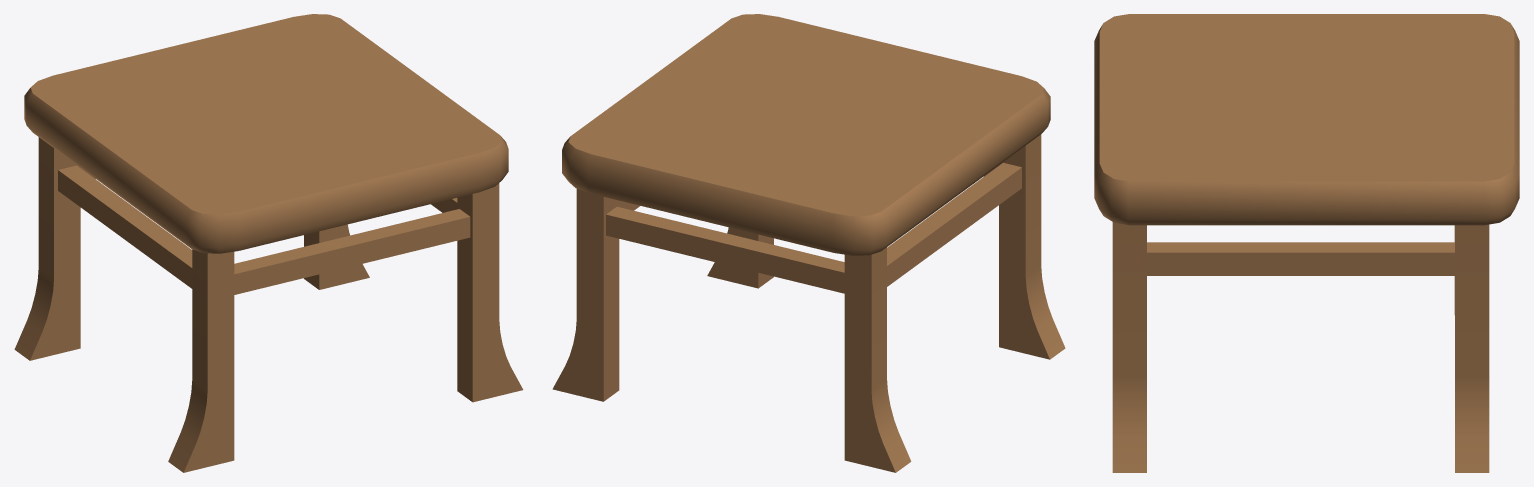
File: quaternius-sushi-restaurant-environment-table.glb
3 views of the same model, side by side, from view 1: azimuth 30°, elevation 25°; view 2: azimuth 150°, elevation 25°; view 3: azimuth 270°, elevation 25° (orthographic). The views are drawn at different scales.
Parts seen in each view (by area): view 1: Environment_Table; view 2: Environment_Table; view 3: Environment_Table.
Boxes of the visible parts, box(x1,y1,x2,y2) form: Environment_Table: box(14, 14, 523, 472); Environment_Table: box(552, 14, 1065, 472); Environment_Table: box(1094, 14, 1519, 472).
Size of the model in its own units: 2.18 by 1.55 by 2.11.
Materials: 1 (1 with a texture image).
